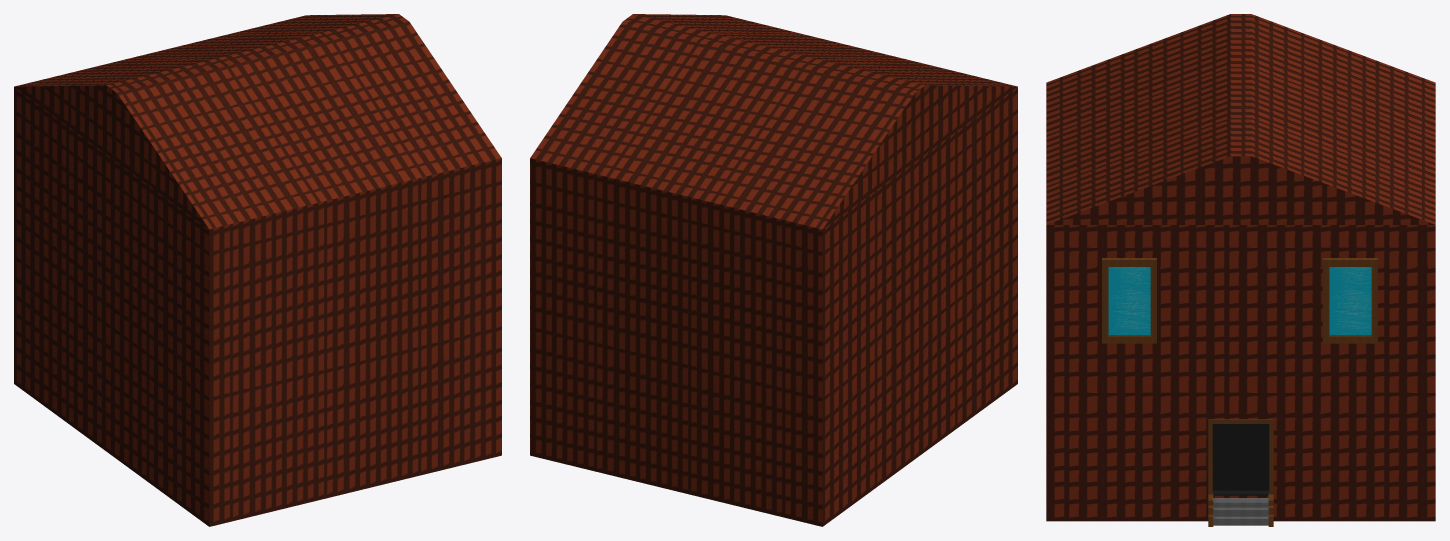
File: Edificio_3_1.fbx
3 views of the same model, side by side, from view 1: azimuth 30°, elevation 25°; view 2: azimuth 150°, elevation 25°; view 3: azimuth 270°, elevation 25° (orthographic).
Visible parts, largest first — view 1: edificio_3; view 2: edificio_3; view 3: edificio_3.
Boxes of the visible parts, bbox=[...] form: edificio_3: bbox=[14, 14, 501, 526]; edificio_3: bbox=[530, 14, 1017, 526]; edificio_3: bbox=[1046, 14, 1435, 526].
Size of the model in its own units: 933 by 1039 by 1004.
